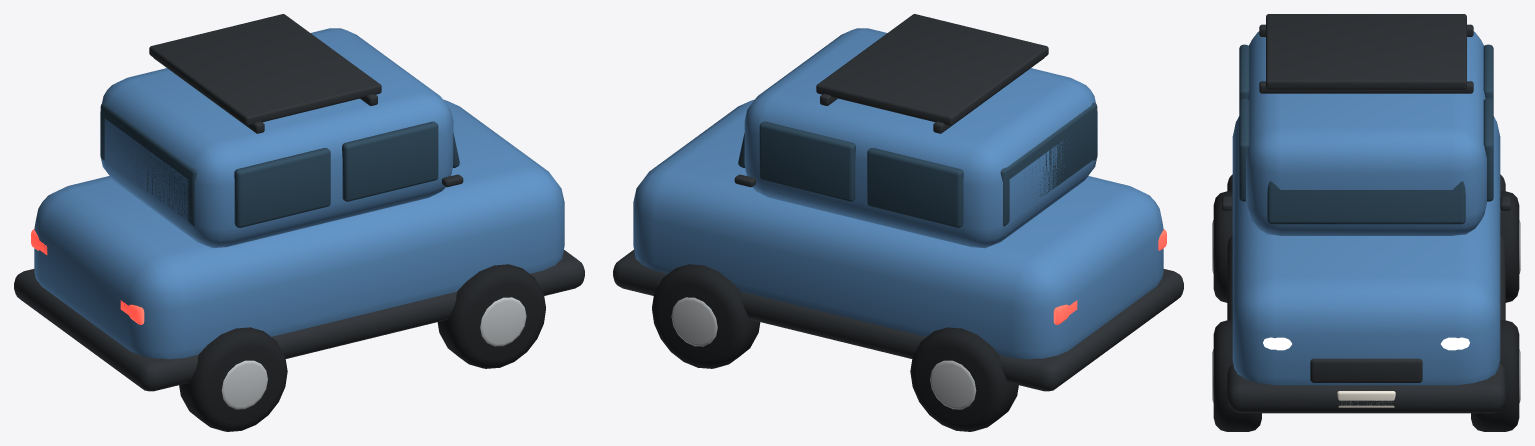
The model's file is car_blue.glb.
3 views of the same model, side by side, from view 1: azimuth 30°, elevation 25°; view 2: azimuth 150°, elevation 25°; view 3: azimuth 270°, elevation 25° (orthographic). The views are drawn at different scales.
Visible parts, largest first — view 1: car_blue; view 2: car_blue; view 3: car_blue.
Boxes of the visible parts, x1,y1,x2,y2 form: car_blue: (14, 14, 584, 431); car_blue: (613, 14, 1183, 431); car_blue: (1212, 14, 1520, 431).
Bounding box in the file's own units: 1.96 × 1.23 × 1.15.
Materials: 3 (3 with a texture image).
